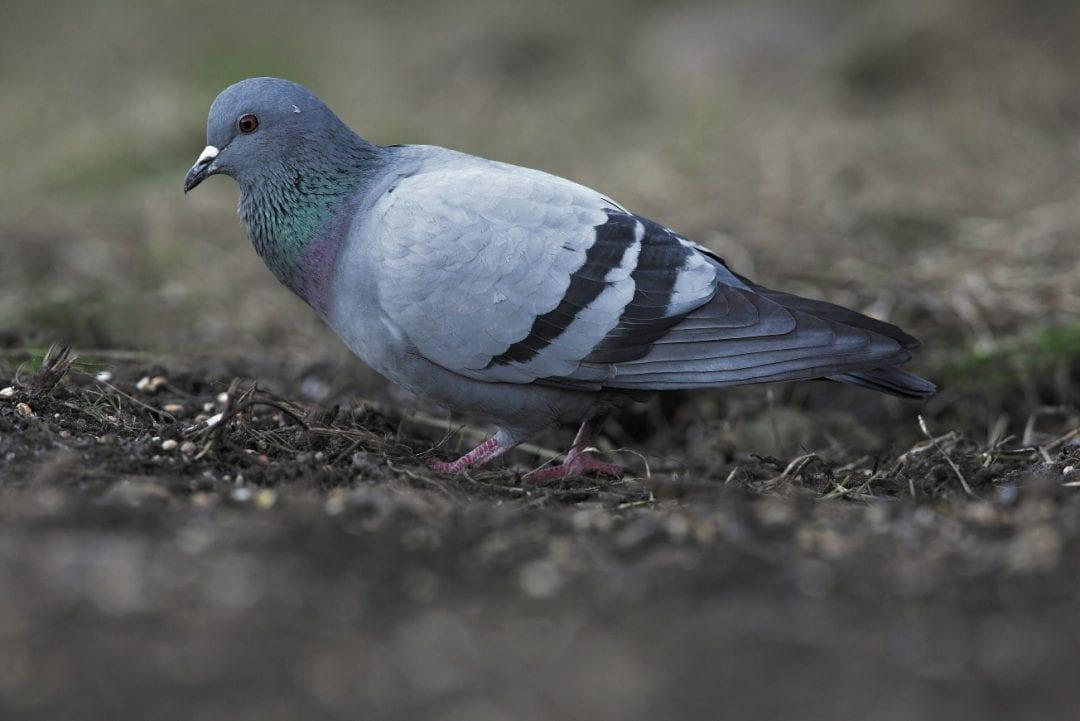Flying Rat: (180, 72, 938, 479)
